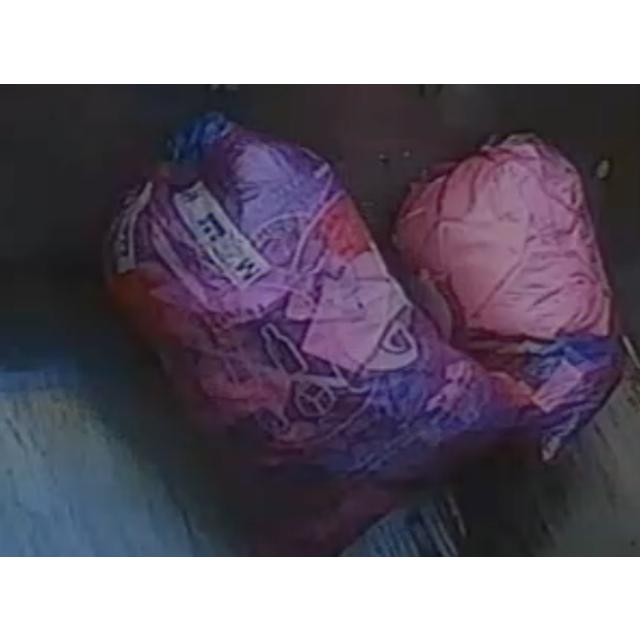other_trashbag: (110, 114, 536, 553), (395, 133, 621, 459)
